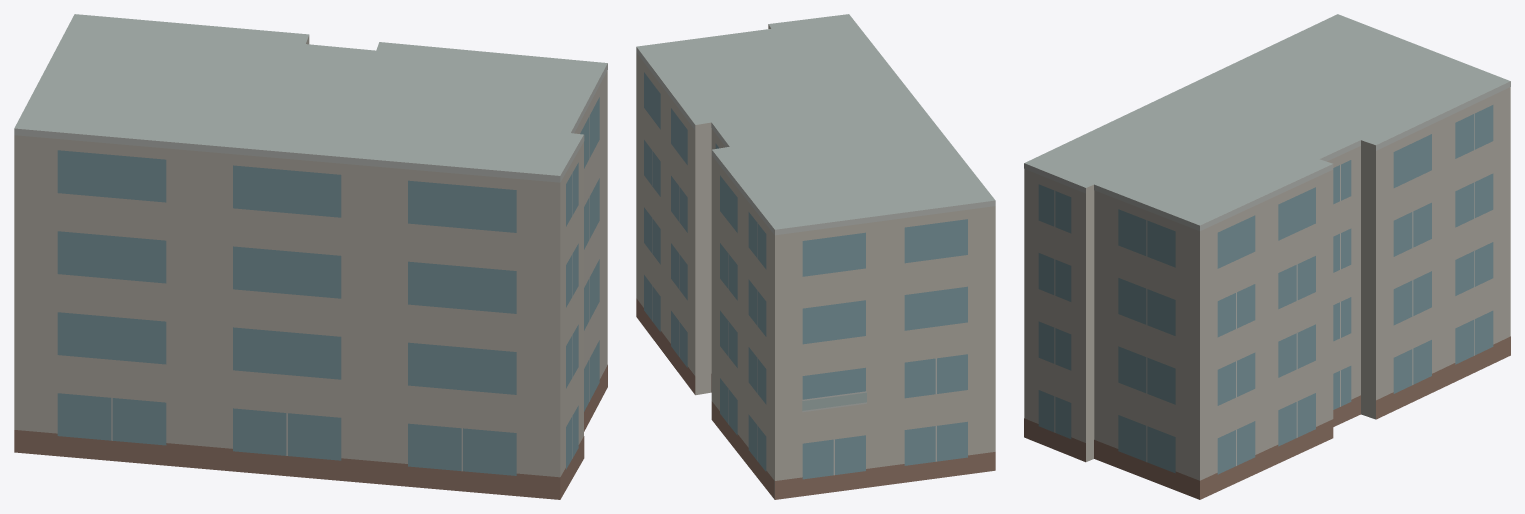
Rendered from survey-upis-32567650.glb.
3 renders of one model, left to right at view 1: azimuth 30°, elevation 25°; view 2: azimuth 150°, elevation 25°; view 3: azimuth 270°, elevation 25°, orthographic. The views are drawn at different scales.
Visible parts, largest first — view 1: survey-upis-32567650.tmp; view 2: survey-upis-32567650.tmp; view 3: survey-upis-32567650.tmp.
Part boxes in pixels (x1=…): survey-upis-32567650.tmp: x1=14, y1=14, x2=607, y2=499; survey-upis-32567650.tmp: x1=636, y1=14, x2=995, y2=499; survey-upis-32567650.tmp: x1=1024, y1=14, x2=1510, y2=499.
Bounding box in the file's own units: 19.53 × 11.8 × 18.98.
